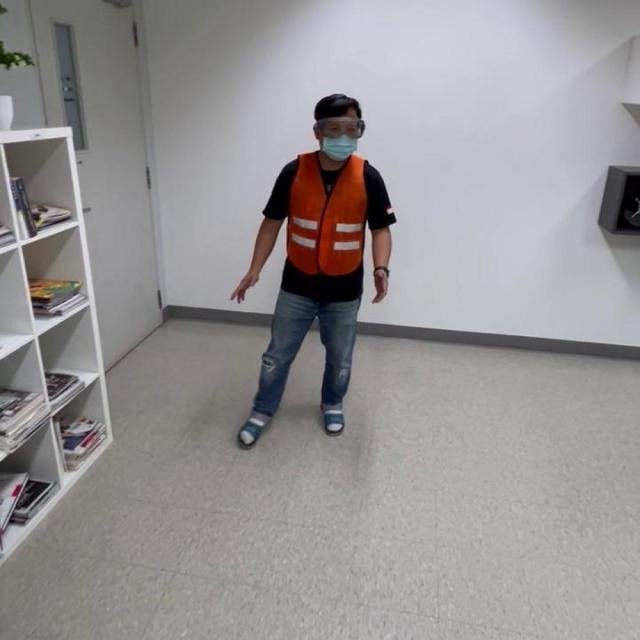bare_hand: (228, 266, 259, 306), (370, 264, 390, 306)
